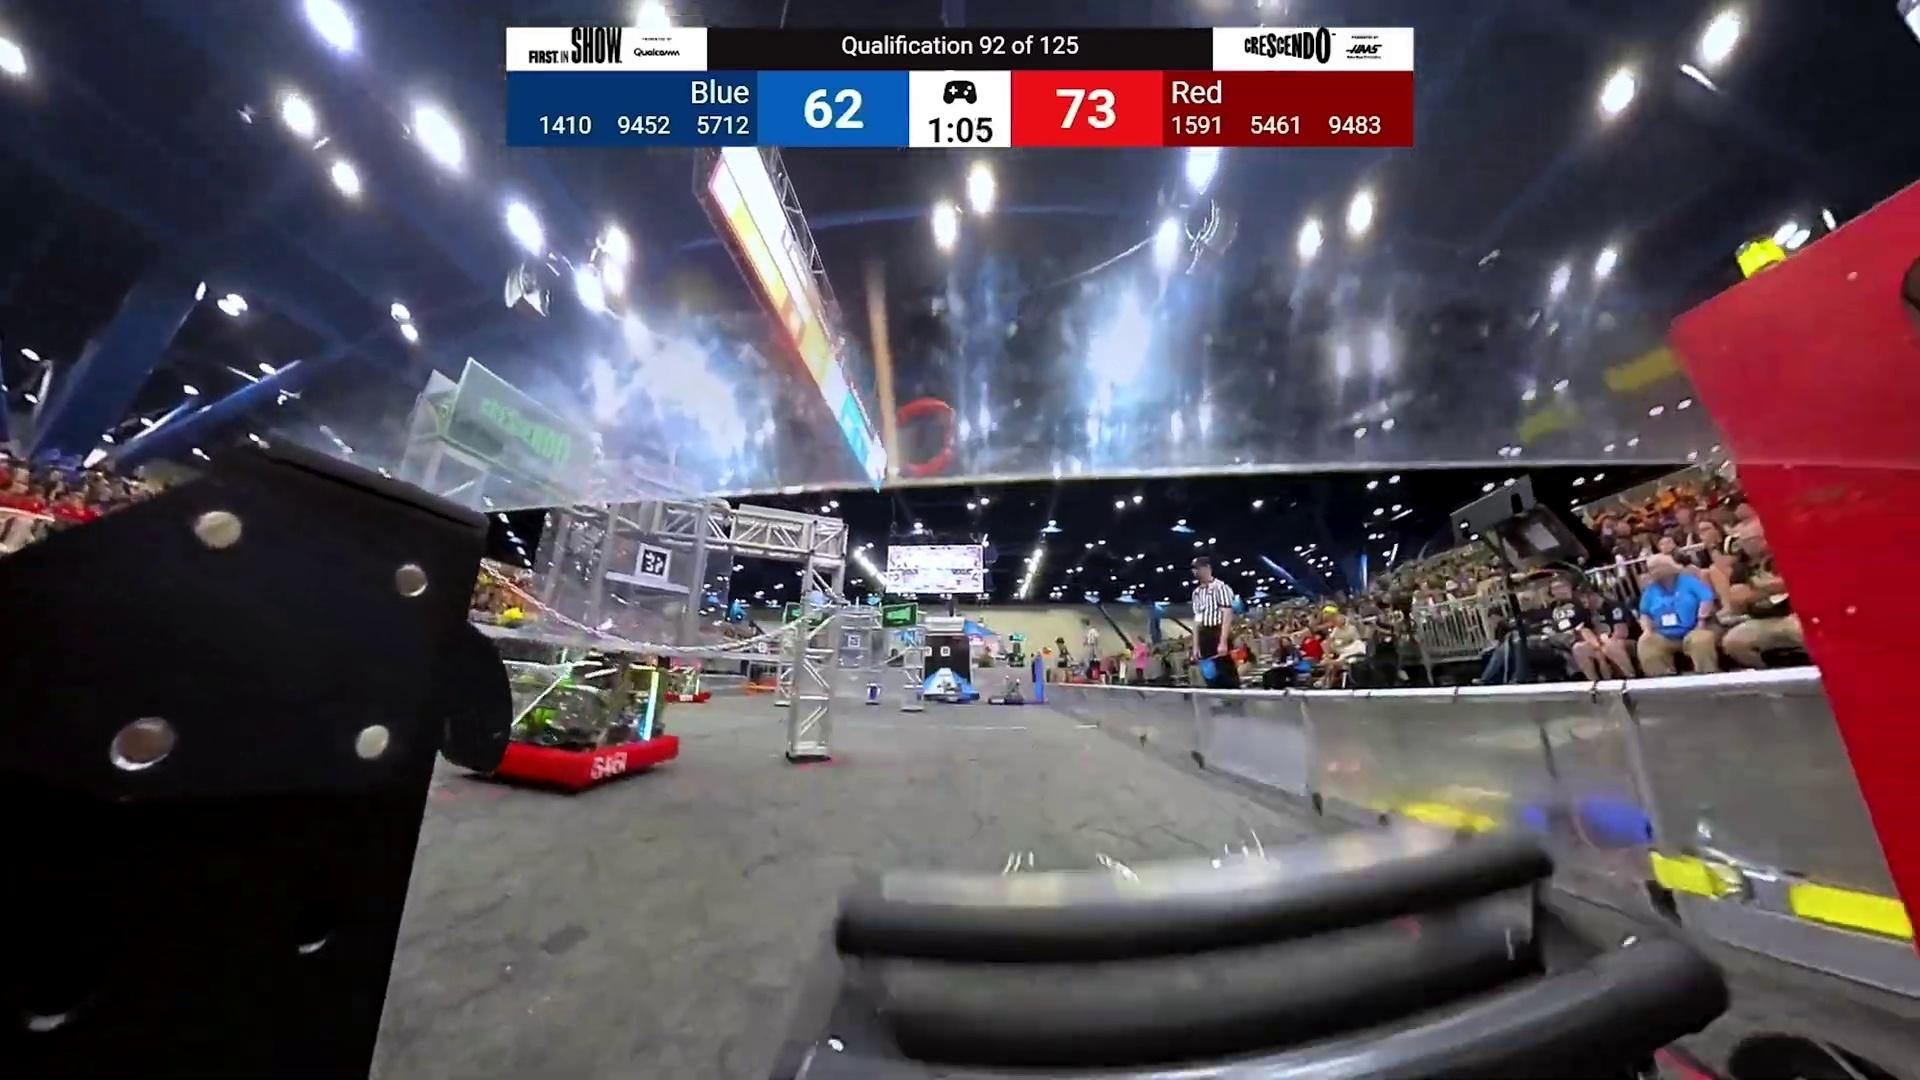robot: (496, 658, 678, 790), (666, 673, 711, 704), (988, 676, 1025, 705), (938, 682, 969, 705)
